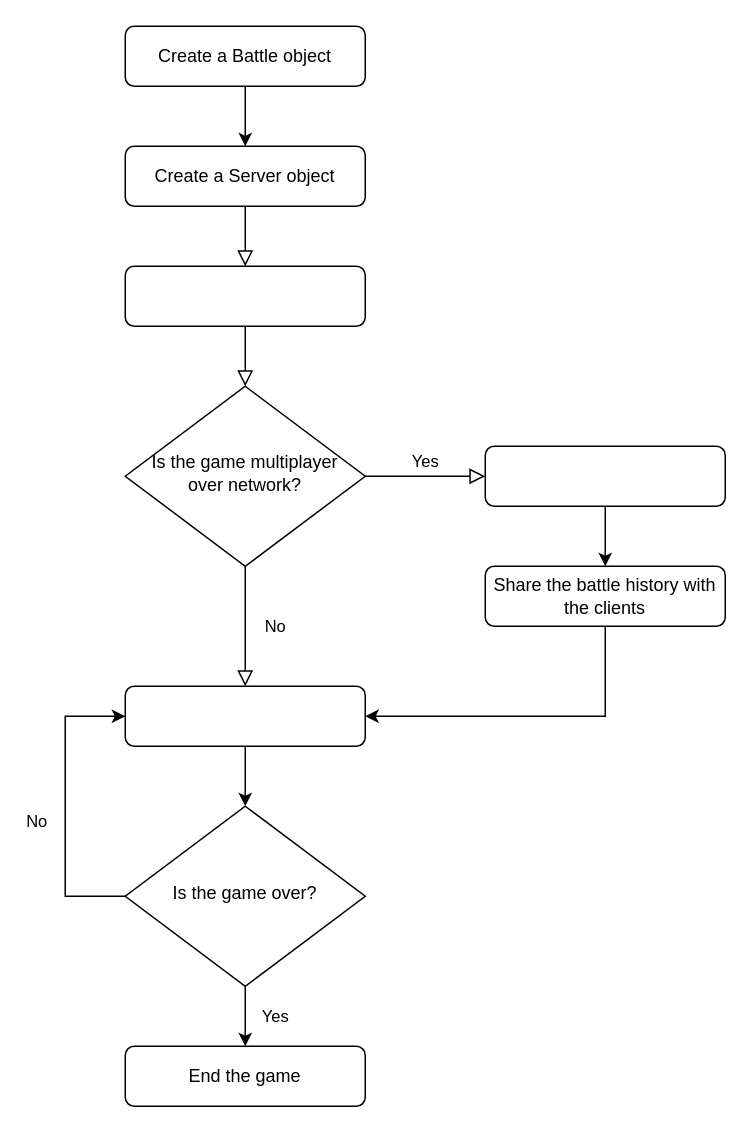
The diagram is 752 pixels wide and 1133 high, and some of its shapes have lost their labels. The centre of each missing label's shape, as x and y in pixels:
"Attach one or more ClientSinks" goes at (x=604, y=475).
"Create and process events" goes at (x=244, y=715).
"Setup the starting state of the game (through events)" goes at (x=244, y=295).
